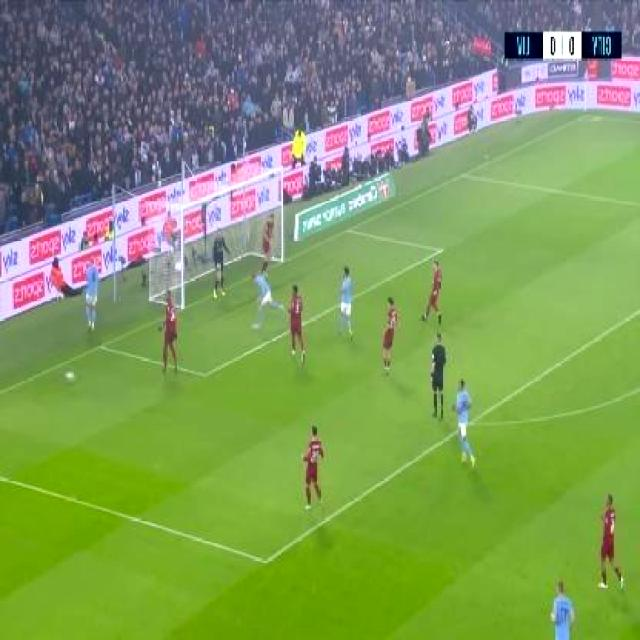bigarea_bottom_inner: (256, 544, 278, 576)
bigarea_top_outter: (456, 165, 472, 183)
corner: (577, 106, 600, 123)
smallarea_bottom_inner: (197, 360, 215, 388)
smallarea_bottom_outter: (92, 334, 112, 357)
smallarea_top_inner: (434, 237, 452, 260)
smallarea_top_outter: (340, 218, 358, 240)
